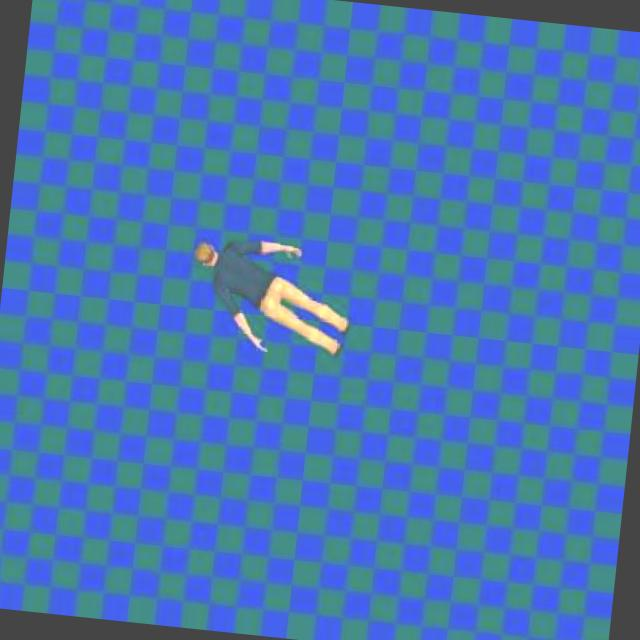Person: (176, 224, 360, 368)
